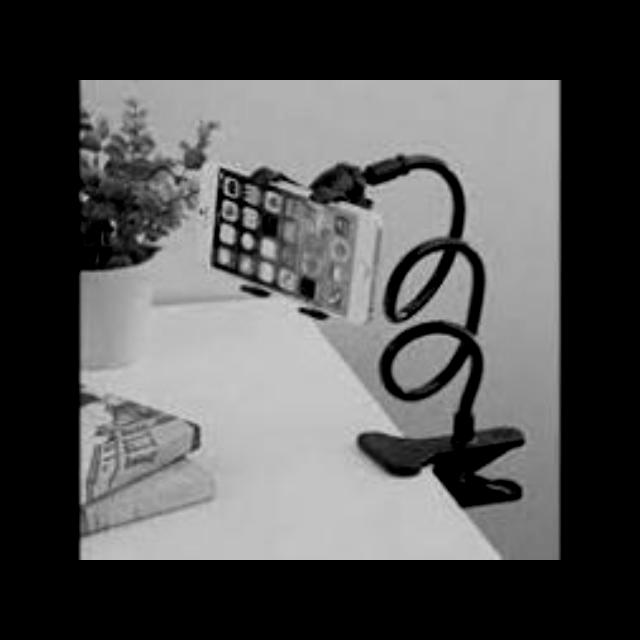fake: (174, 140, 449, 356)
